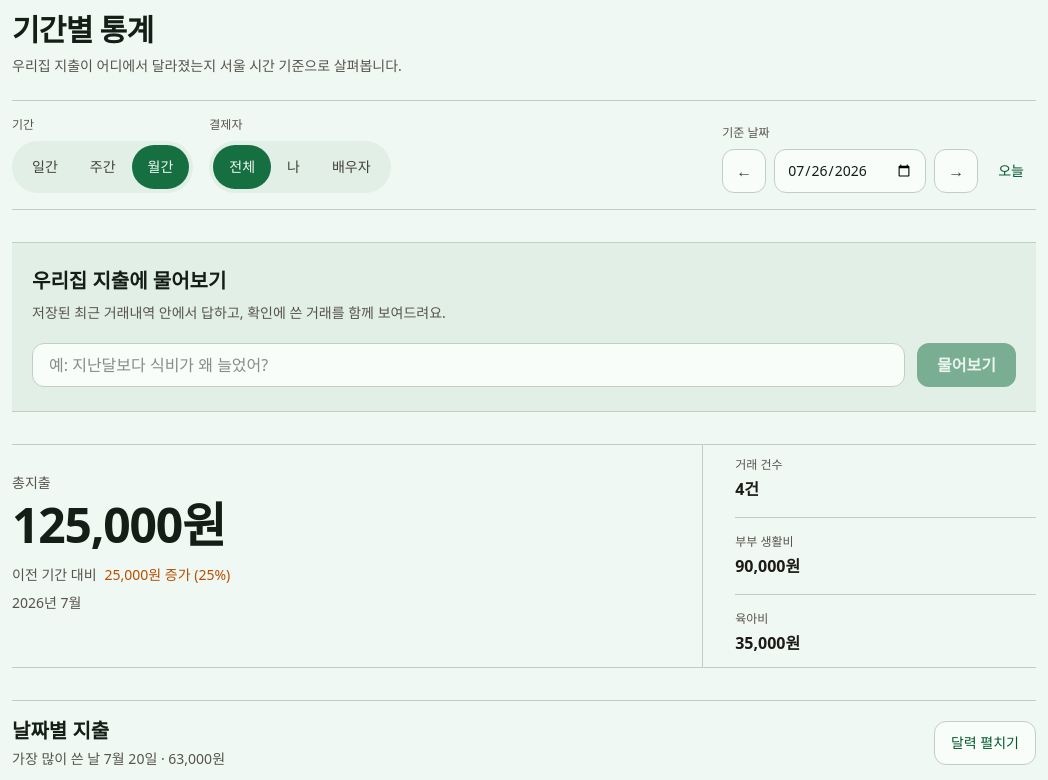
it: SpendingStatisticsPanel › shows a period summary and reloads it when the period changes
Check: the text "125,000원" is shown, box [12,492,225,557]
Check: the text "90,000원" is shown, box [735,555,800,577]
Click the button "달력 펼치기".
click(985, 743)  # box [934,721,1036,765]
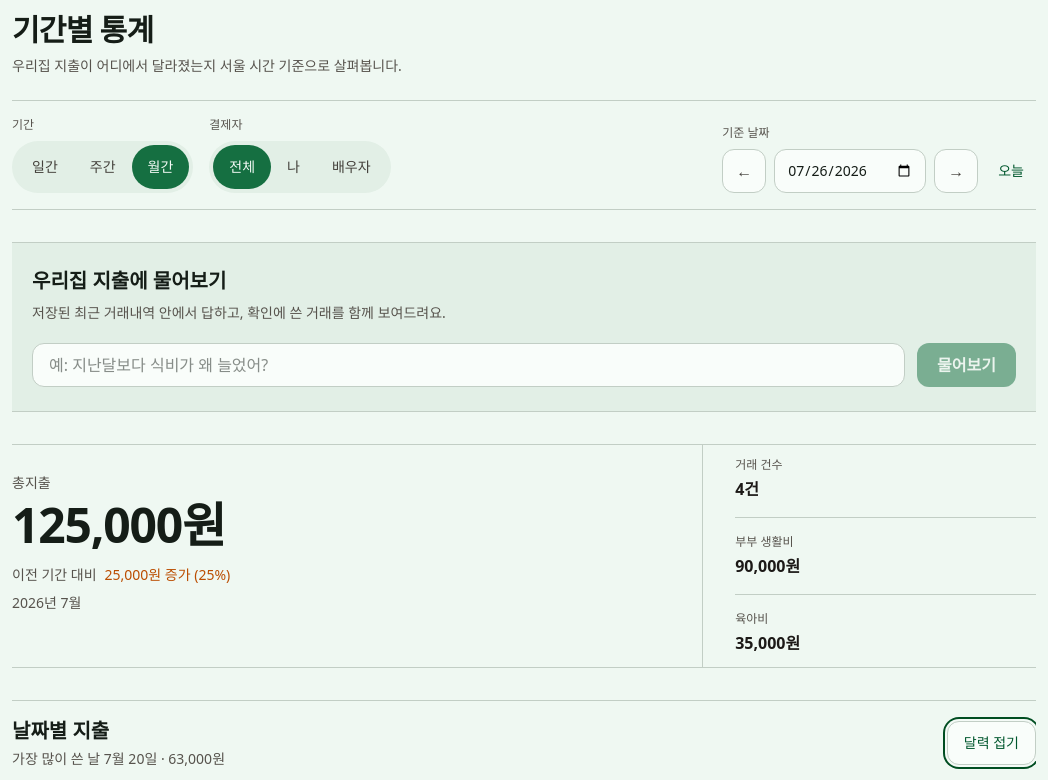
Check: the button "달력 접기" is expanded, box [947,721,1036,765]
Click the button "일간".
click(45, 167)  # box [16,145,74,189]
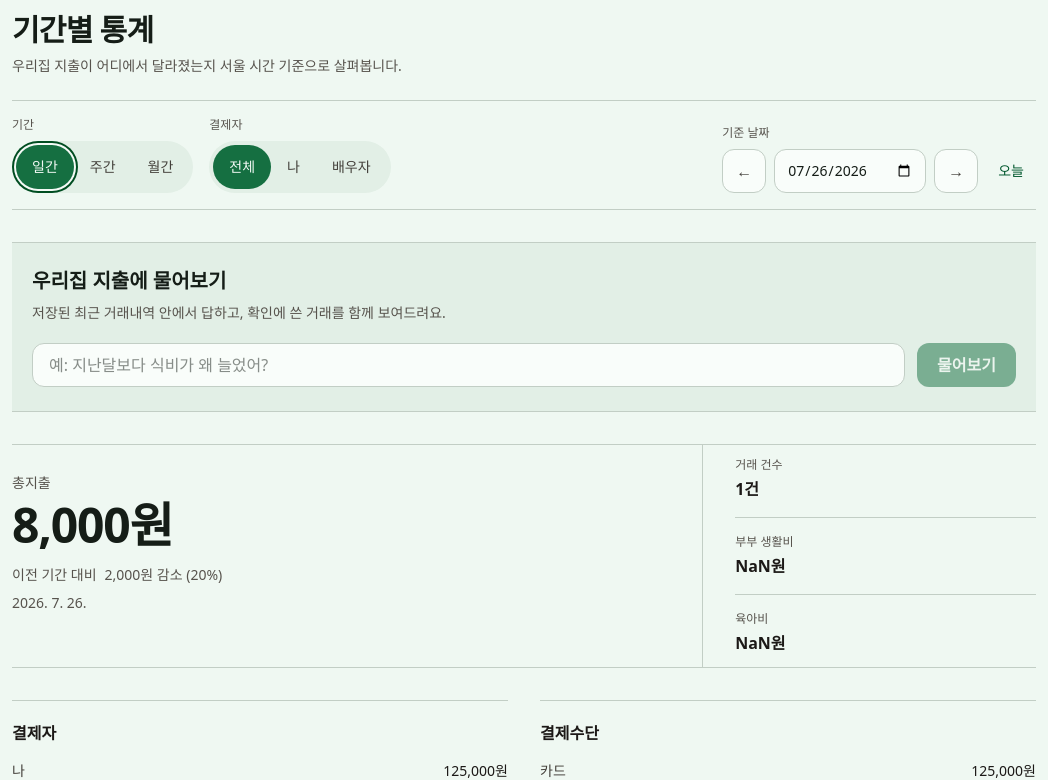
Check: the text "8,000원" is shown, box [12,492,172,557]
